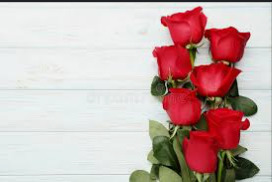RedRose: (162, 1, 209, 49), (189, 62, 240, 102), (145, 39, 191, 82), (161, 87, 205, 130), (203, 27, 254, 63), (208, 105, 248, 147), (183, 128, 219, 173)
